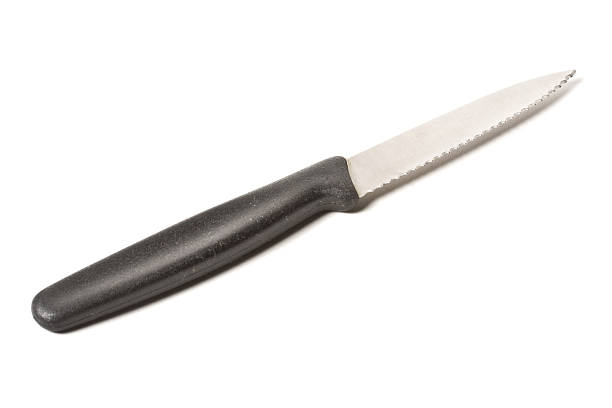knife: (28, 66, 579, 336)
